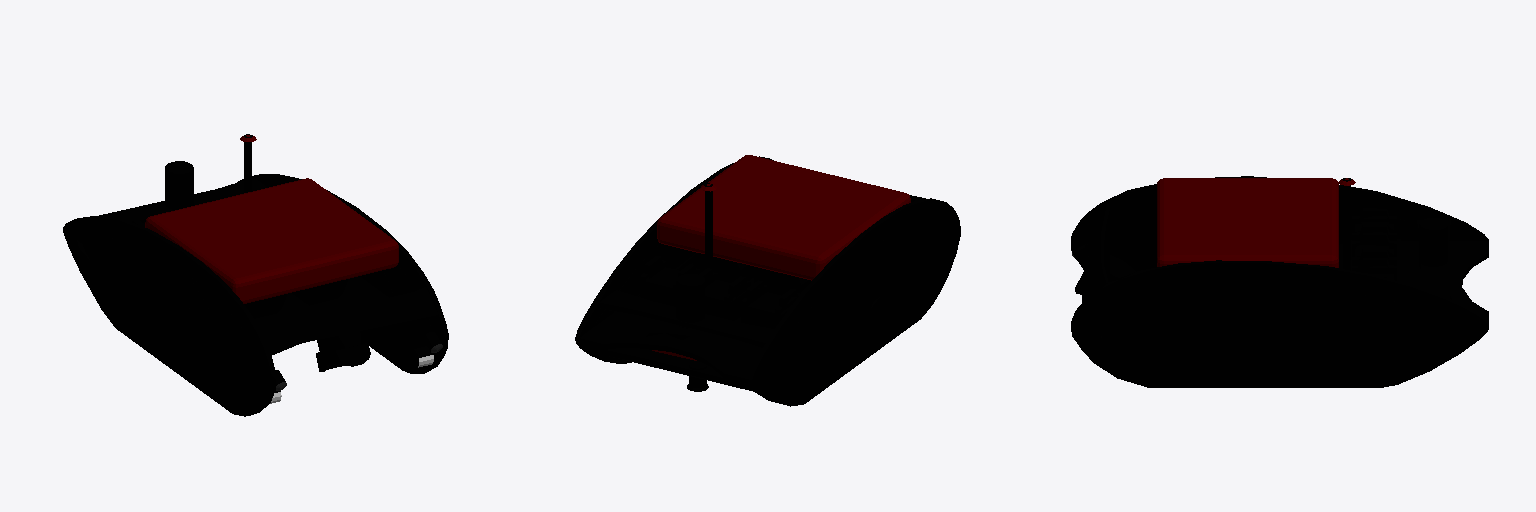
Rendered from EVA.obj.
3 renders of one model, left to right at view 1: azimuth 30°, elevation 25°; view 2: azimuth 150°, elevation 25°; view 3: azimuth 270°, elevation 25°, orthographic.
Visible parts, largest first — view 1: ChassisD_EVA_Decimated.009, TopFoam_EVA_Decimated.011, Chassis_EVA_Decimated, ChassisE_EVA_Decimated.010, Multibeam_EVA_Decimated.005, USBL_EVA_Decimated.004; view 2: ChassisD_EVA_Decimated.009, TopFoam_EVA_Decimated.011, Chassis_EVA_Decimated, ChassisE_EVA_Decimated.010, USBL_EVA_Decimated.004, Bat2_EVA_Decimated.007, Bat3_EVA_Decimated.008, Bat1_EVA_Decimated.006; view 3: ChassisE_EVA_Decimated.010, TopFoam_EVA_Decimated.011, Chassis_EVA_Decimated, ChassisD_EVA_Decimated.009, USBL_EVA_Decimated.004.
Part boxes in pixels (left/top/right/bottom): ChassisD_EVA_Decimated.009: left=63, top=216, right=275, bottom=416; TopFoam_EVA_Decimated.011: left=145, top=178, right=398, bottom=303; Chassis_EVA_Decimated: left=99, top=134, right=437, bottom=355; ChassisE_EVA_Decimated.010: left=237, top=174, right=448, bottom=373; Multibeam_EVA_Decimated.005: left=316, top=331, right=370, bottom=371; USBL_EVA_Decimated.004: left=165, top=161, right=193, bottom=209; ChassisD_EVA_Decimated.009: left=748, top=198, right=960, bottom=406; TopFoam_EVA_Decimated.011: left=657, top=155, right=910, bottom=280; Chassis_EVA_Decimated: left=579, top=183, right=925, bottom=391; ChassisE_EVA_Decimated.010: left=575, top=156, right=773, bottom=363; USBL_EVA_Decimated.004: left=676, top=274, right=704, bottom=328; Bat2_EVA_Decimated.007: left=705, top=280, right=745, bottom=320; Bat3_EVA_Decimated.008: left=747, top=292, right=791, bottom=328; Bat1_EVA_Decimated.006: left=646, top=267, right=679, bottom=305; ChassisE_EVA_Decimated.010: left=1071, top=260, right=1488, bottom=387; TopFoam_EVA_Decimated.011: left=1157, top=178, right=1338, bottom=267; Chassis_EVA_Decimated: left=1082, top=178, right=1488, bottom=322; ChassisD_EVA_Decimated.009: left=1071, top=176, right=1488, bottom=271; USBL_EVA_Decimated.004: left=1419, top=218, right=1447, bottom=268.
Bounding box in the file's own units: 0.7318 × 0.7061 × 1.5.